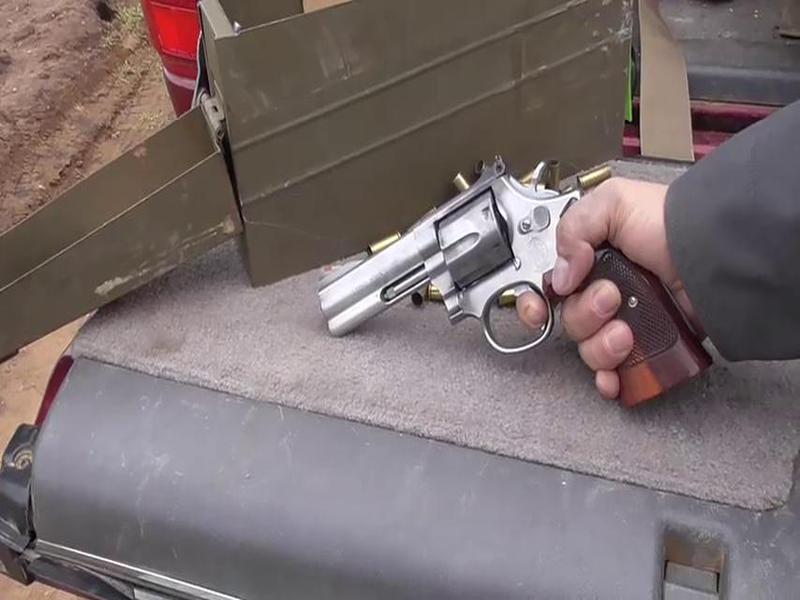Revolver: (317, 141, 702, 446)
